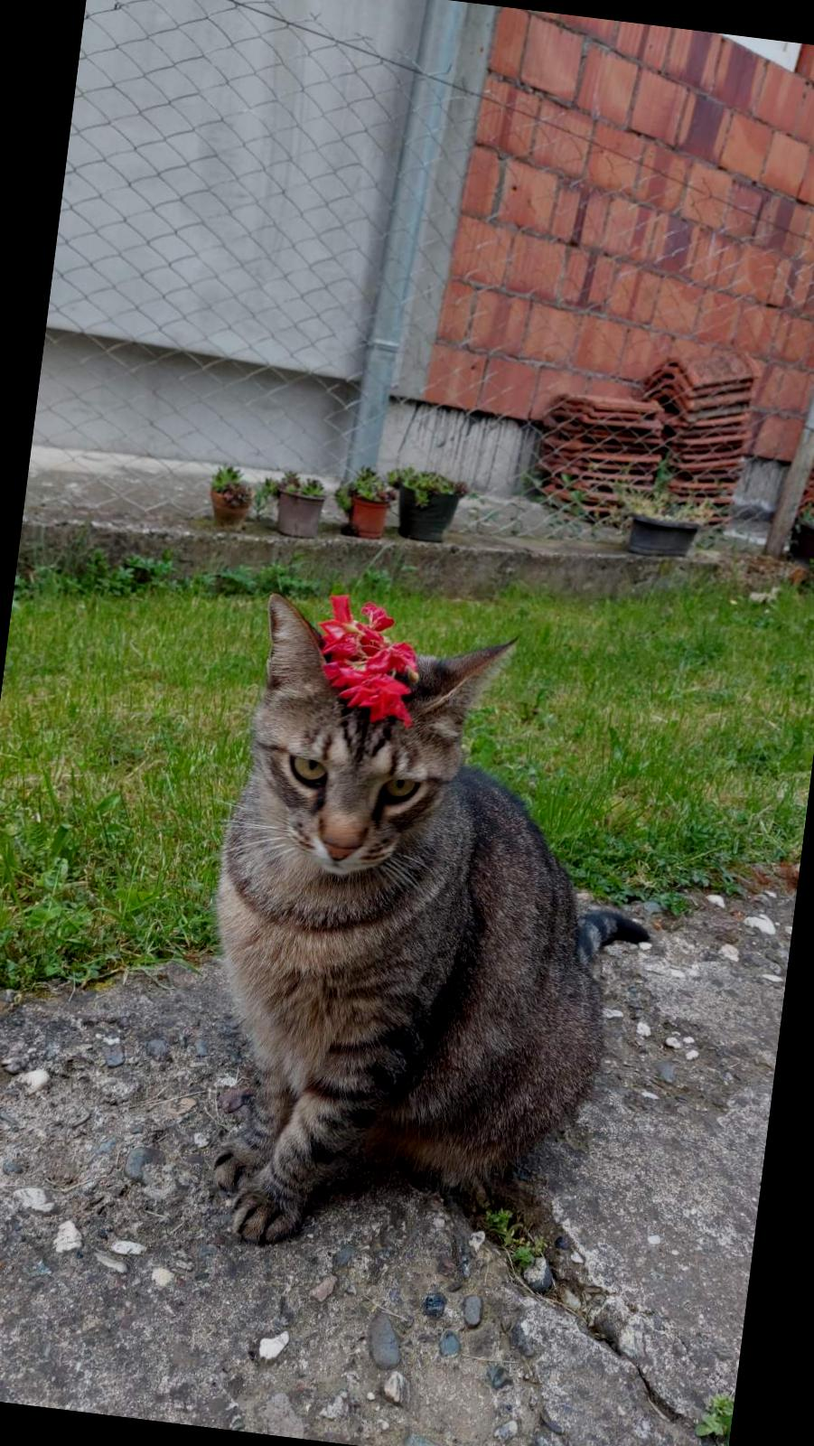macka: (175, 582, 687, 1286)
